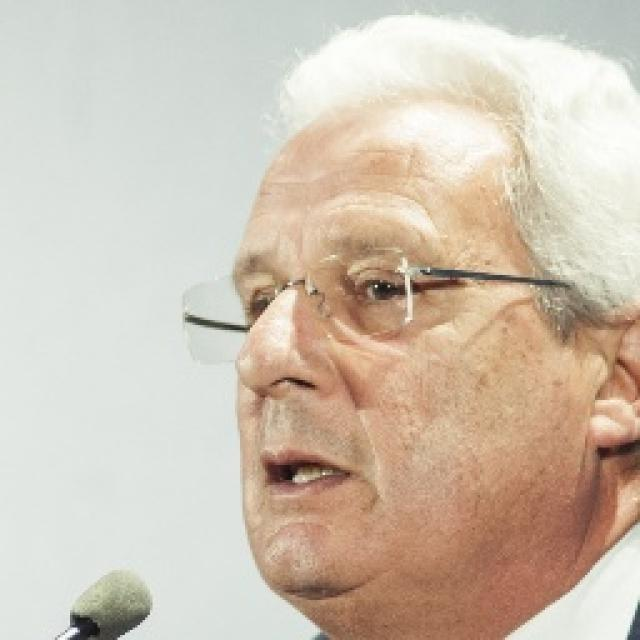earlobe: (590, 307, 640, 450)
